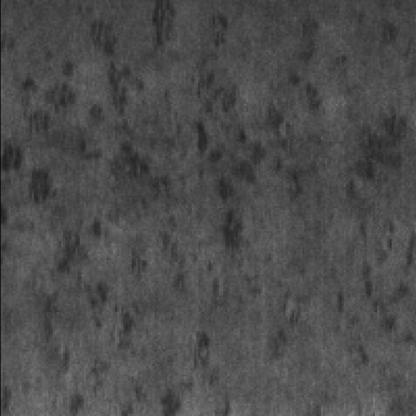rolled-in_scale: (4, 4, 291, 258), (23, 139, 216, 414), (335, 214, 416, 377), (343, 106, 416, 229)
